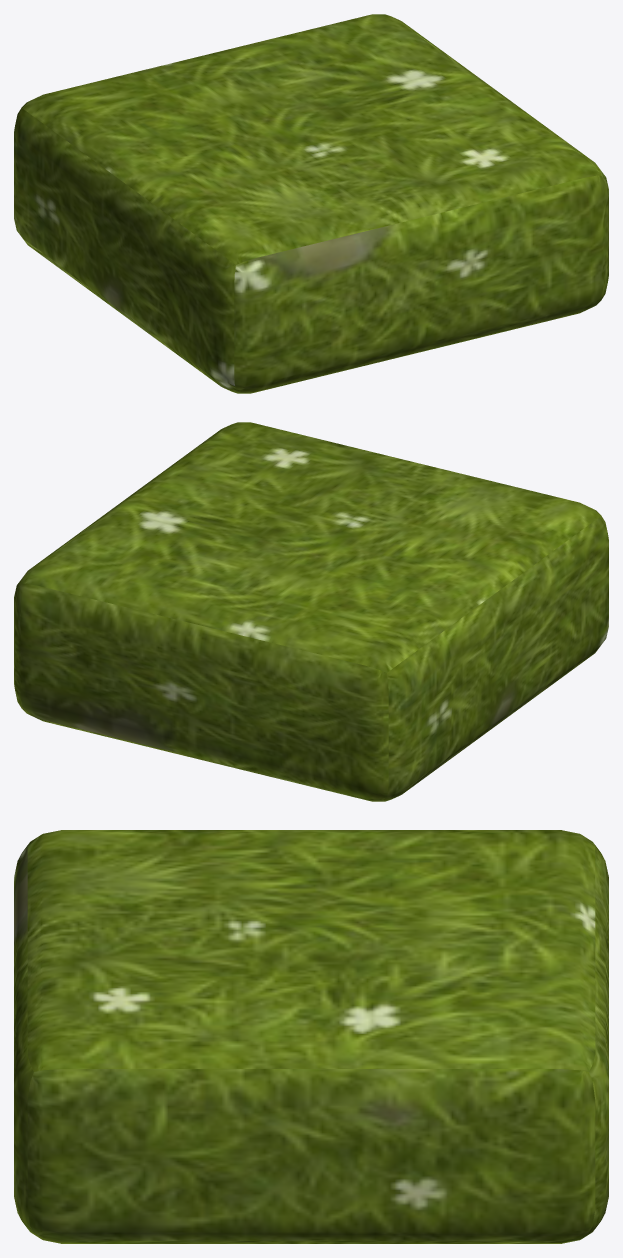
Rendered from Grass_Platform.fbx.
3 views of the same model, one above another, from view 1: azimuth 30°, elevation 25°; view 2: azimuth 150°, elevation 25°; view 3: azimuth 270°, elevation 25° (orthographic). The views are drawn at different scales.
Parts seen in each view (by area): view 1: Grass_Platform; view 2: Grass_Platform; view 3: Grass_Platform.
Part boxes in pixels (box(x1,y1,x2,y2)): Grass_Platform: box(14, 14, 608, 393); Grass_Platform: box(14, 422, 608, 801); Grass_Platform: box(14, 830, 608, 1243).
Size of the model in its own units: 1.26 by 0.4665 by 1.28.
